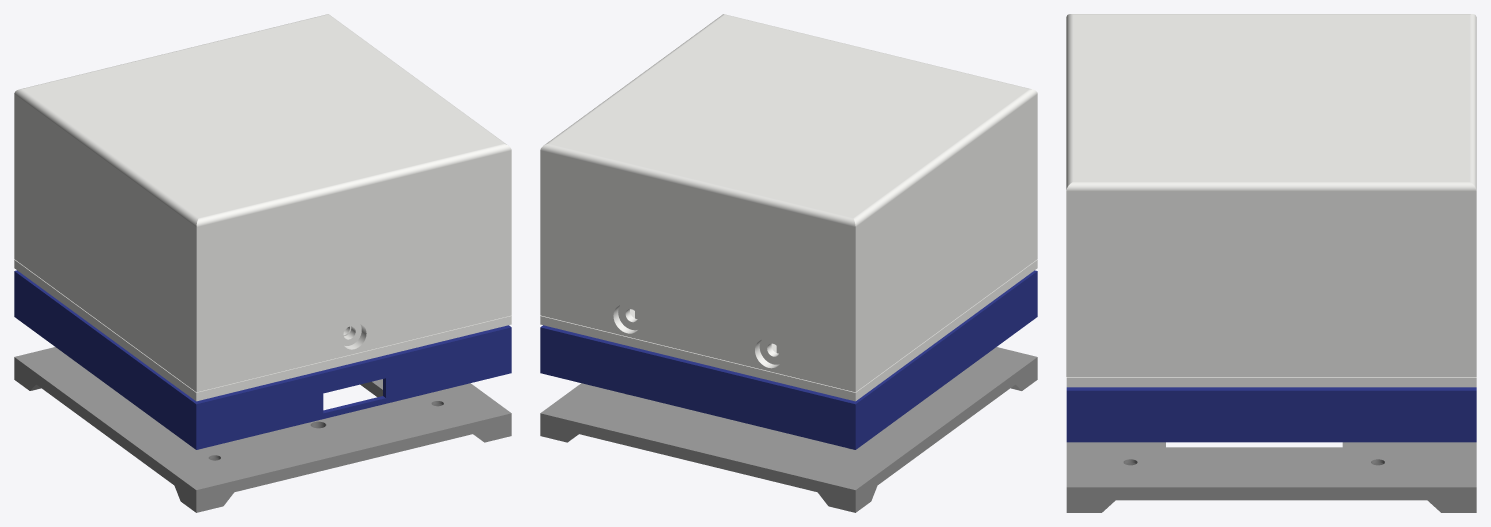
The model's file is single_sensor v13.fbx.
3 renders of one model, left to right at view 1: azimuth 30°, elevation 25°; view 2: azimuth 150°, elevation 25°; view 3: azimuth 270°, elevation 25°, orthographic. The views are drawn at different scales.
Visible parts, largest first — view 1: Body1, bottom_plate, electric_bay, top_plate; view 2: Body1, bottom_plate, electric_bay, top_plate; view 3: Body1, bottom_plate, electric_bay, top_plate.
Part boxes in pixels (x1,y1,x2,y2): Body1: [14, 14, 511, 392]; bottom_plate: [14, 347, 511, 512]; electric_bay: [14, 270, 511, 449]; top_plate: [14, 259, 511, 401]; Body1: [540, 14, 1037, 392]; bottom_plate: [540, 347, 1037, 512]; electric_bay: [540, 270, 1037, 449]; top_plate: [540, 259, 1037, 401]; Body1: [1066, 14, 1476, 376]; bottom_plate: [1066, 442, 1476, 512]; electric_bay: [1066, 387, 1476, 442]; top_plate: [1066, 377, 1476, 387].
Bounding box in the file's own units: 116 × 102 × 116.
